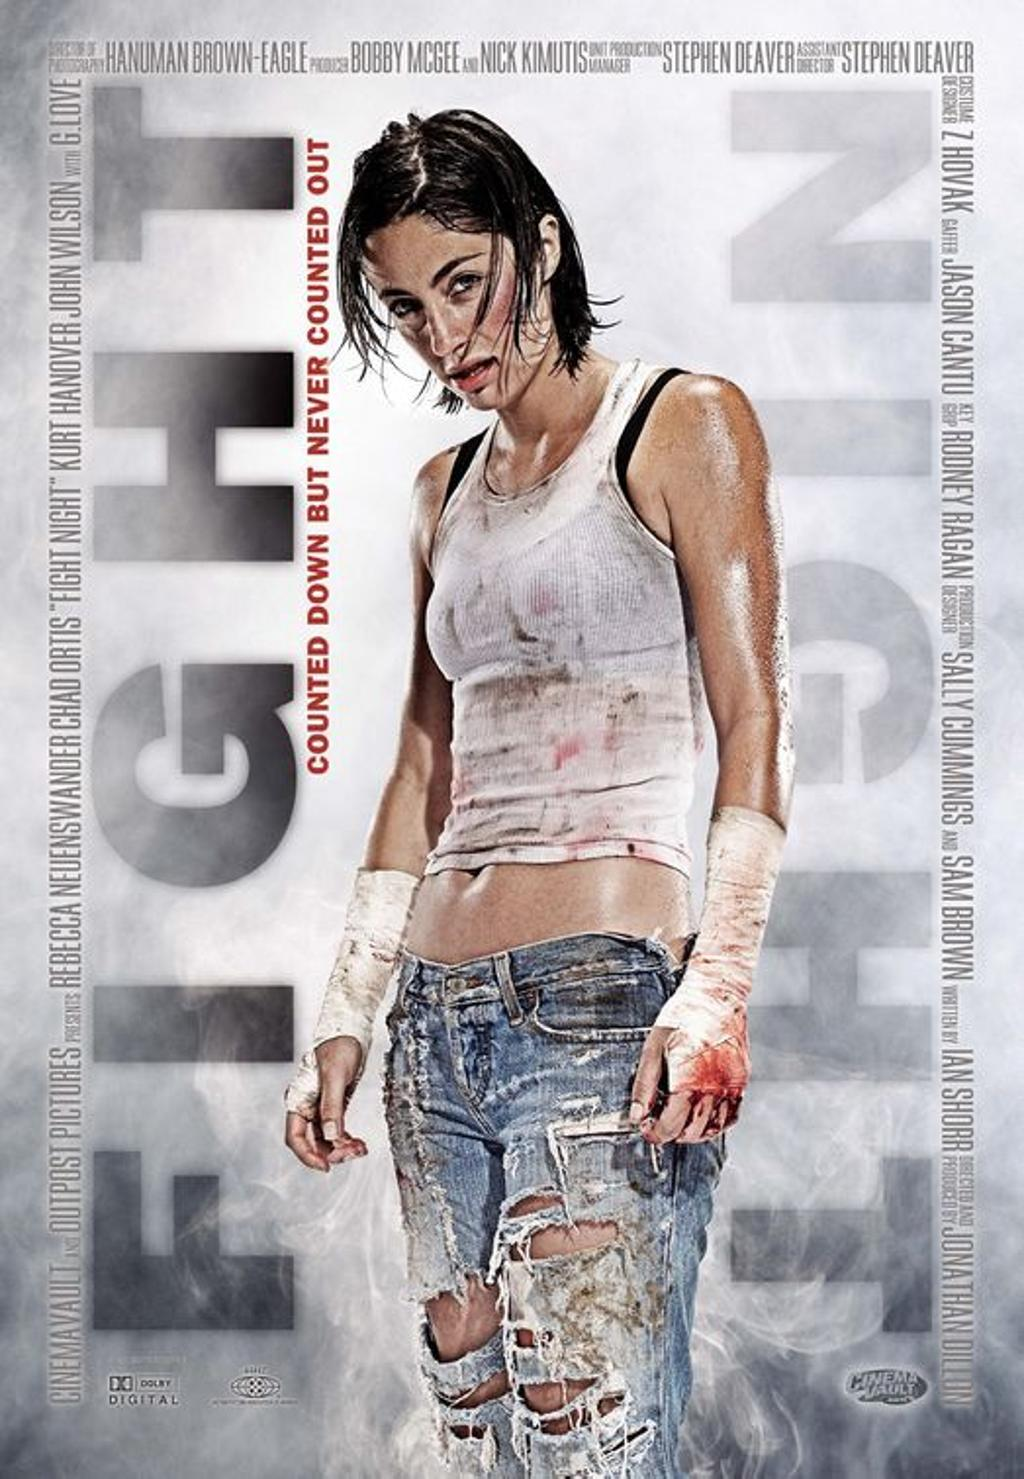face: (372, 222, 528, 415)
